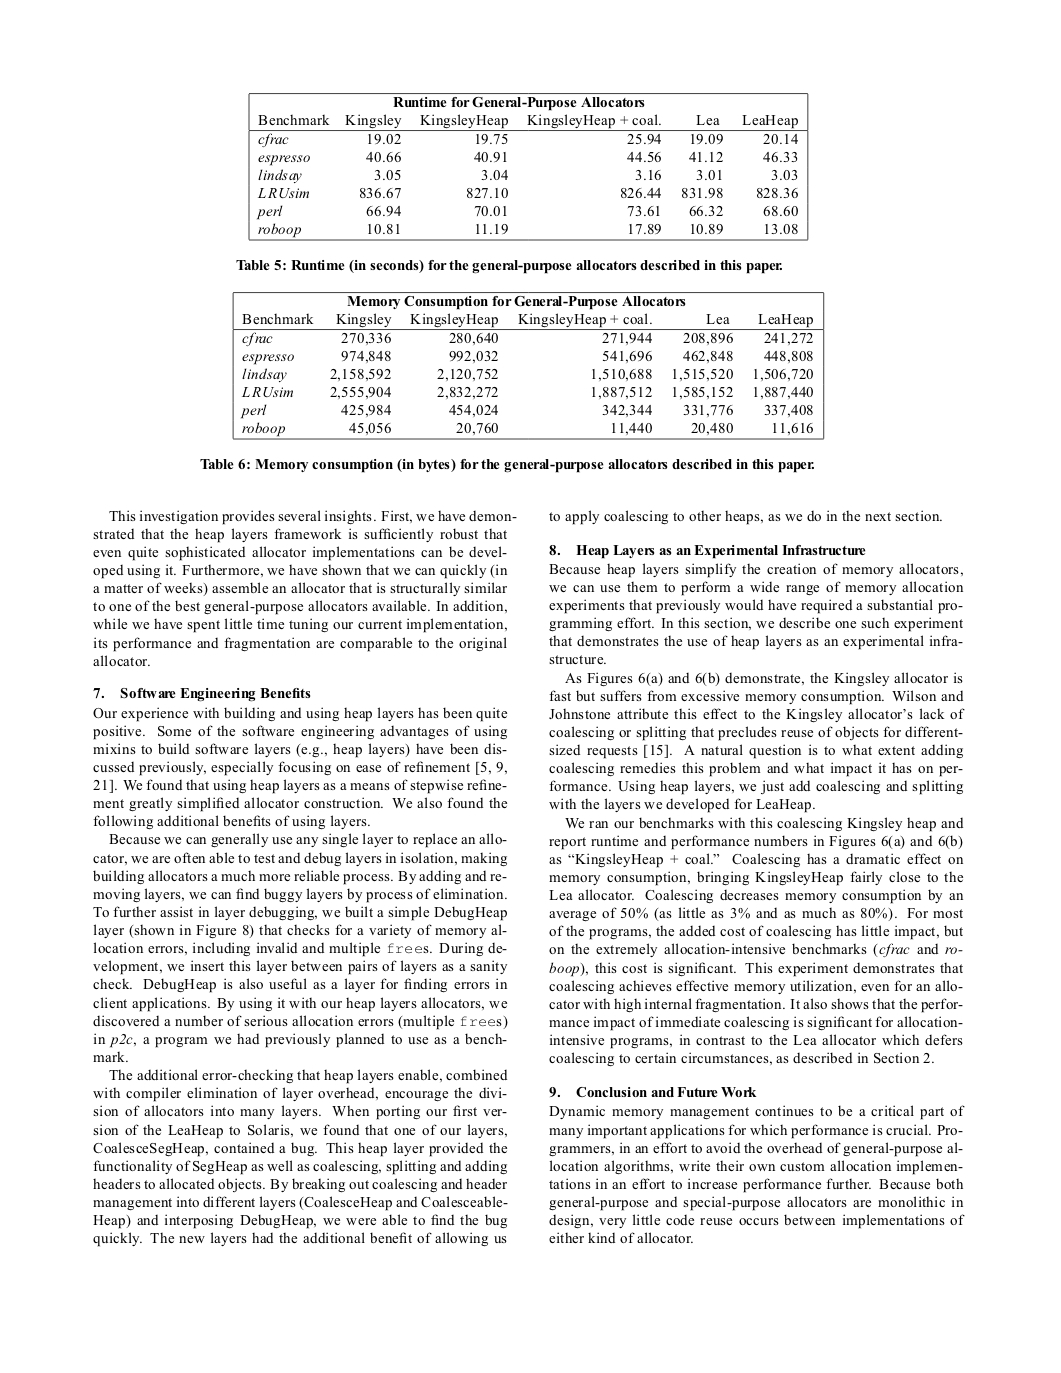Table: (232, 291, 824, 440), (249, 92, 808, 241)
